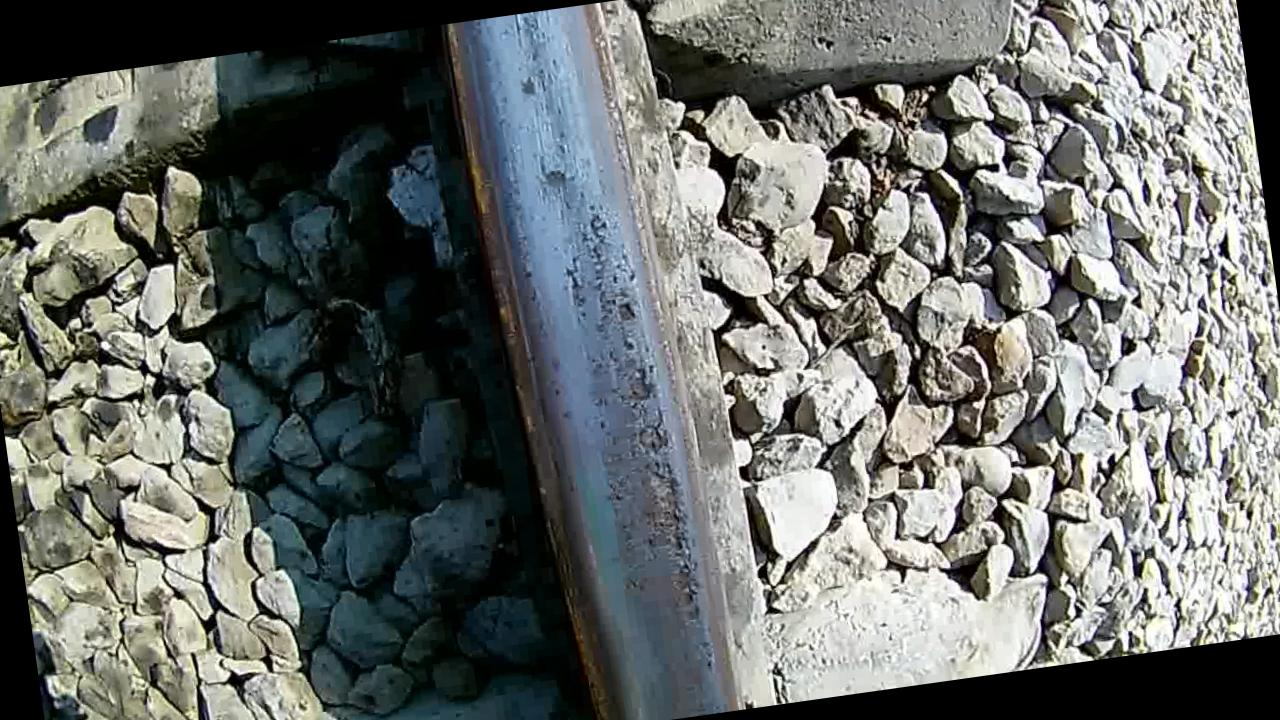crack: (457, 0, 732, 720)
